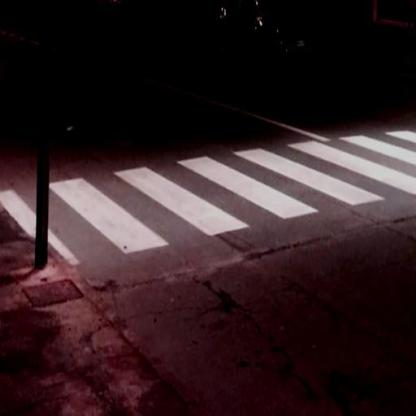crosswalk: (111, 140, 320, 244)
